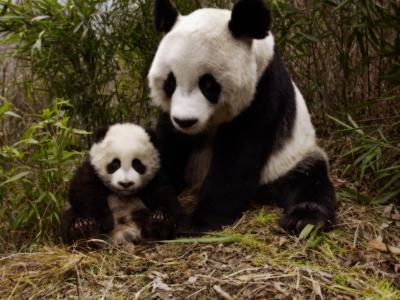panda: (143, 1, 340, 235), (41, 122, 187, 241)
